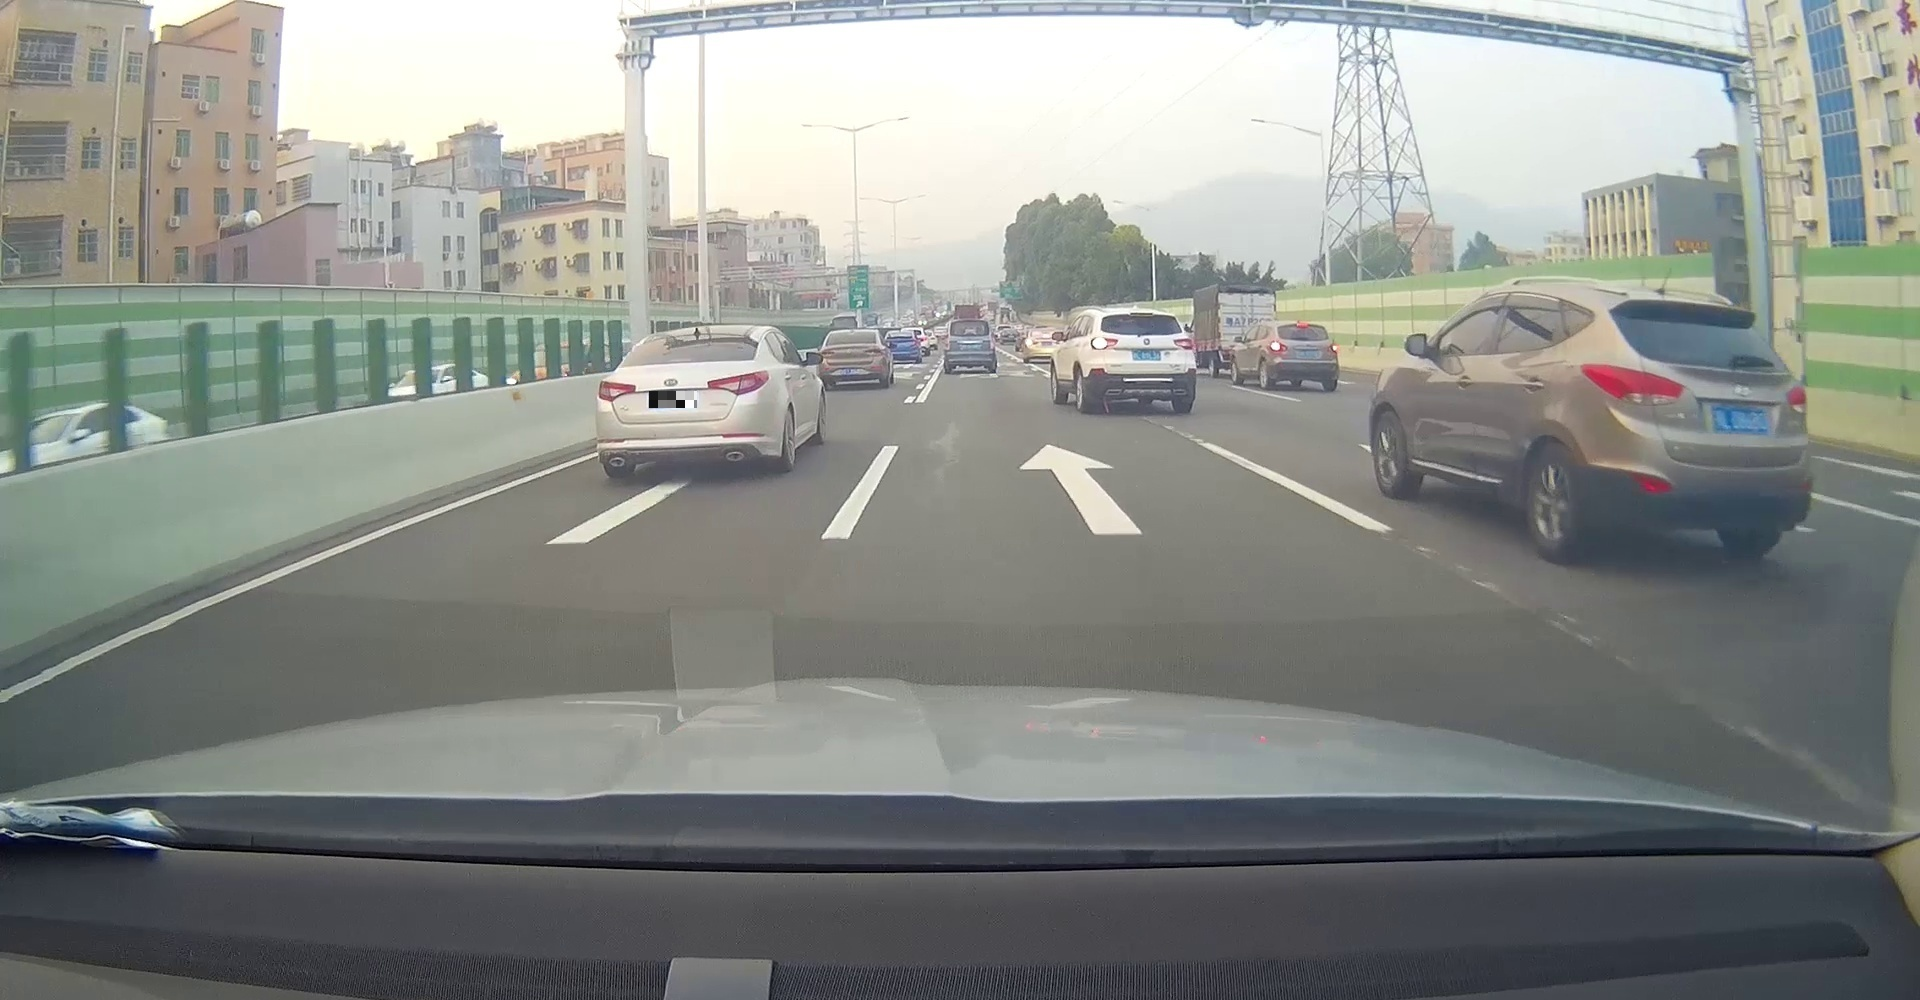L_light: (1582, 364, 1685, 405), (598, 379, 636, 404), (1091, 336, 1117, 350), (1269, 341, 1288, 352), (943, 338, 949, 352), (822, 352, 834, 355)
R_light: (707, 371, 770, 396), (1785, 385, 1808, 415), (1173, 338, 1194, 352), (1327, 343, 1338, 353), (863, 349, 880, 354), (990, 336, 996, 349)
T_light: (1686, 303, 1728, 312), (667, 358, 692, 363), (1130, 312, 1153, 316), (1297, 324, 1308, 327), (965, 320, 975, 324), (847, 332, 857, 334)
day-brake: (1269, 321, 1340, 392)
day-left: (1090, 308, 1196, 412)
day-no: (1580, 292, 1811, 555), (594, 325, 772, 480), (817, 329, 888, 390), (943, 319, 996, 376)
plate_1: (649, 391, 697, 409)
